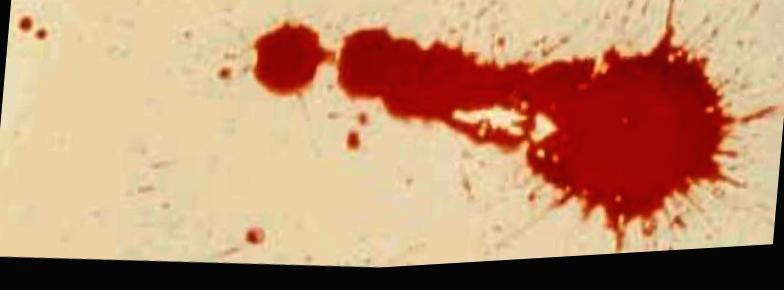Fire: (337, 26, 737, 259), (251, 27, 336, 101)
